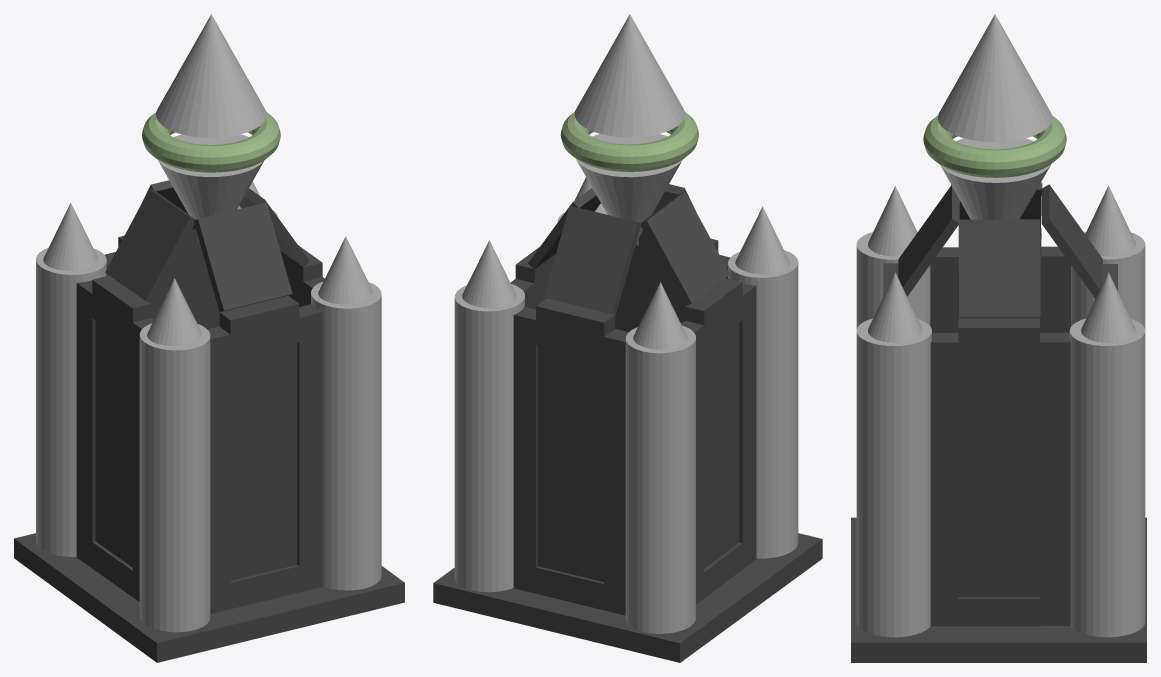
File: king.glb
3 views of the same model, side by side, from view 1: azimuth 30°, elevation 25°; view 2: azimuth 150°, elevation 25°; view 3: azimuth 270°, elevation 25° (orthographic). The views are drawn at different scales.
Visible parts, largest first — view 1: Cube.002_vuln, Cube.004_vuln, Cylinder_vuln, Cylinder.001_vuln, king, Cylinder.003_vuln, Cone.005, Torus, Cone.004, Cube.001_vuln, Cube.003_vuln, Cone.001 (+2 smaller); view 2: Cube.001_vuln, Cube.004_vuln, Cylinder.003_vuln, Cylinder.002_vuln, king, Cylinder_vuln, Cone.005, Torus, Cone.004, Cube.002_vuln, Cube.003_vuln, Cone.003 (+2 smaller); view 3: Cube.003_vuln, Cylinder.002_vuln, Cylinder.001_vuln, king, Cone.005, Cube.004_vuln, Torus, Cone.004, Cube.001_vuln, Cube.002_vuln, Cylinder_vuln, Cylinder.003_vuln (+4 smaller).
Boxes of the visible parts, x1,y1,x2,y2 form: Cube.002_vuln: (194,202,322,613); Cube.004_vuln: (76,189,195,601); Cylinder_vuln: (139,323,210,632); Cylinder.001_vuln: (311,281,381,590); king: (14,533,404,662); Cylinder.003_vuln: (36,248,106,556); Cone.005: (156,14,266,137); Torus: (142,112,280,172); Cone.004: (158,134,264,219); Cube.001_vuln: (104,180,219,329); Cube.003_vuln: (239,188,324,306); Cone.001: (318,236,373,304); Cube.001_vuln: (513,205,641,615); Cube.004_vuln: (640,192,756,604); Cylinder.003_vuln: (625,325,695,633); Cylinder.002_vuln: (454,284,524,592); king: (433,533,822,662); Cylinder_vuln: (728,250,798,558); Cone.005: (574,14,684,137); Torus: (560,112,698,171); Cone.004: (576,134,682,241); Cube.002_vuln: (615,184,730,331); Cube.003_vuln: (510,188,600,309); Cone.003: (633,282,687,349); Cube.003_vuln: (930,219,1070,626); Cylinder.002_vuln: (1069,318,1145,637); Cylinder.001_vuln: (856,318,931,637); king: (851,517,1146,662); Cone.005: (938,14,1052,142); Cube.004_vuln: (930,182,1070,332); Torus: (923,115,1066,177); Cone.004: (940,138,1051,219); Cube.001_vuln: (1041,184,1117,299); Cube.002_vuln: (883,185,959,296); Cylinder_vuln: (856,232,930,329); Cylinder.003_vuln: (1071,232,1145,329).
Bounding box in the file's own units: 3.39 × 7.42 × 3.39.
